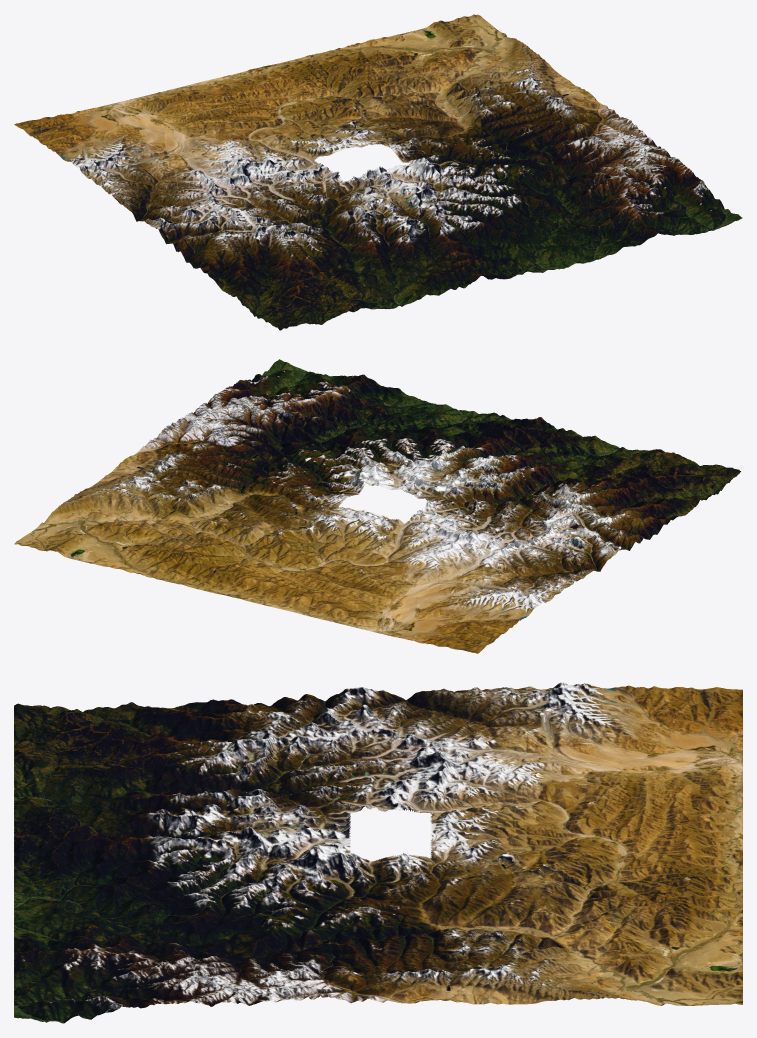
File: khumbu_wide.glb
3 views of the same model, one above another, from view 1: azimuth 30°, elevation 25°; view 2: azimuth 150°, elevation 25°; view 3: azimuth 270°, elevation 25° (orthographic). The views are drawn at different scales.
Parts seen in each view (by area): view 1: world; view 2: world; view 3: world.
Part boxes in pixels (x1,y1,x2,y2): world: (14, 14, 742, 330); world: (14, 359, 740, 653); world: (14, 682, 742, 1023).
Bounding box in the file's own units: 117956 × 7859 × 116886.
1 material, 1 textured.
